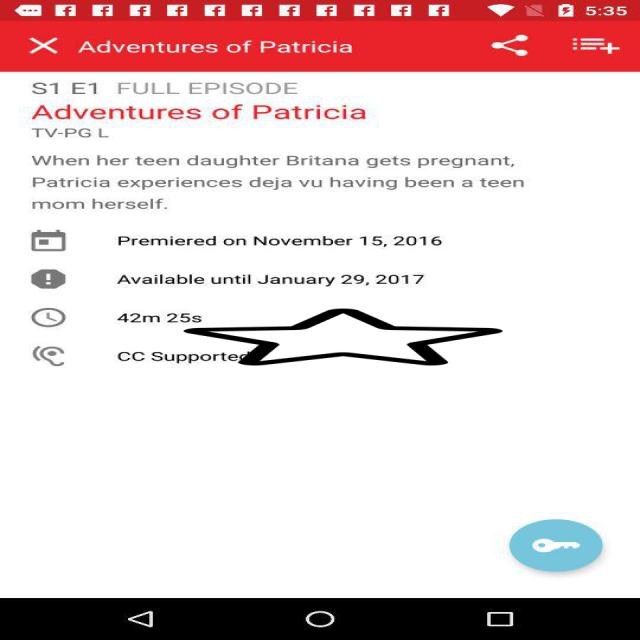forced continuity: (183, 307, 502, 367)
